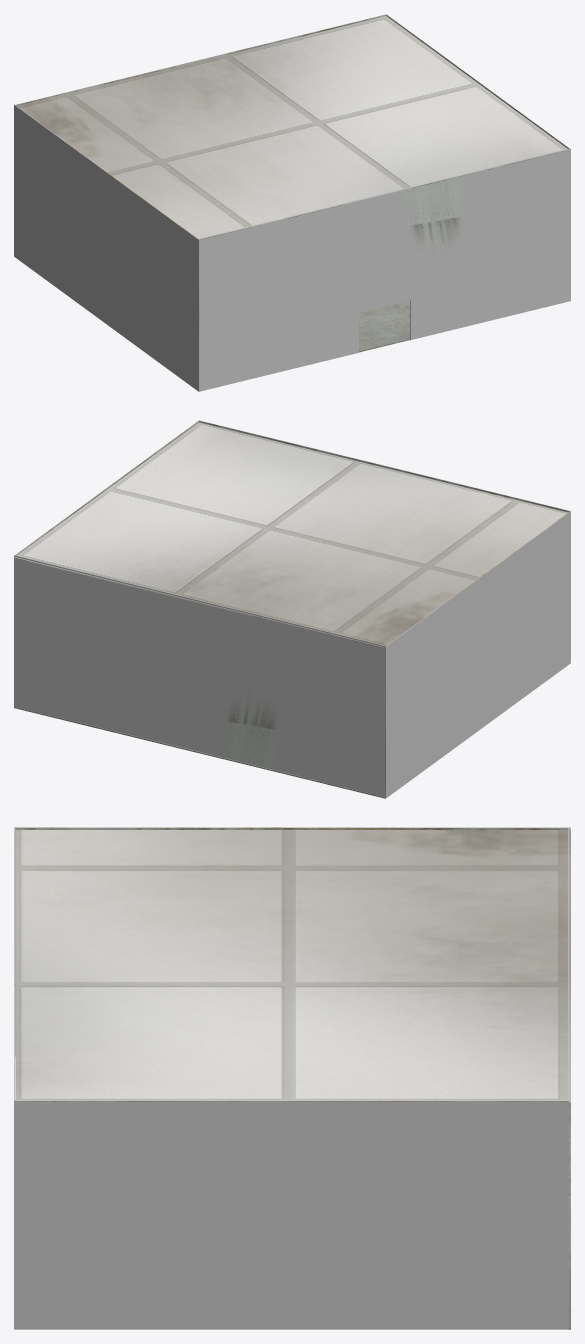
The model's file is principal.fbx.
The picture shows the model from 3 angles, top to bottom: view 1: azimuth 30°, elevation 25°; view 2: azimuth 150°, elevation 25°; view 3: azimuth 270°, elevation 25°; orthographic projection. The views are drawn at different scales.
Parts seen in each view (by area): view 1: Techo, Pared1, Pared3, Piso, Pared4, Pared2; view 2: Techo, Pared4, Pared3, Pared1, Piso, Pared2; view 3: Techo, Pared2, Pared3, Pared1, Pared4.
Part boxes in pixels (x1,y1,x2,y2): Techo: (17,16,567,239); Pared1: (198,148,570,391); Pared3: (14,104,199,391); Piso: (359,300,410,352); Pared4: (14,14,386,256); Pared2: (386,14,569,148); Techo: (14,422,567,648); Pared4: (14,555,386,797); Pared3: (385,511,570,798); Pared1: (198,420,570,512); Piso: (14,706,385,798); Pared2: (14,421,198,706); Techo: (15,830,570,1104); Pared2: (15,1100,569,1329); Pared3: (15,827,570,1056); Pared1: (14,827,15,1329); Pared4: (568,827,569,1329).
Bounding box in the file's own units: 7034 × 2749 × 6049.
6 materials, 6 textured.
